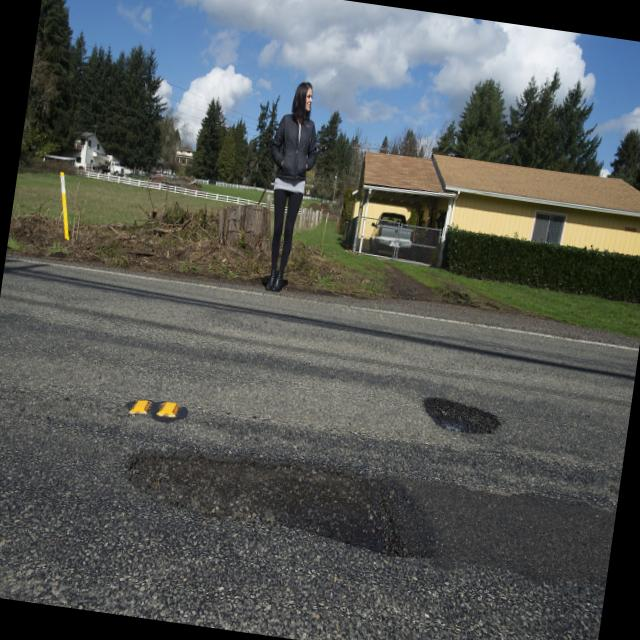Potholes: (109, 412, 620, 616), (404, 380, 520, 480)
